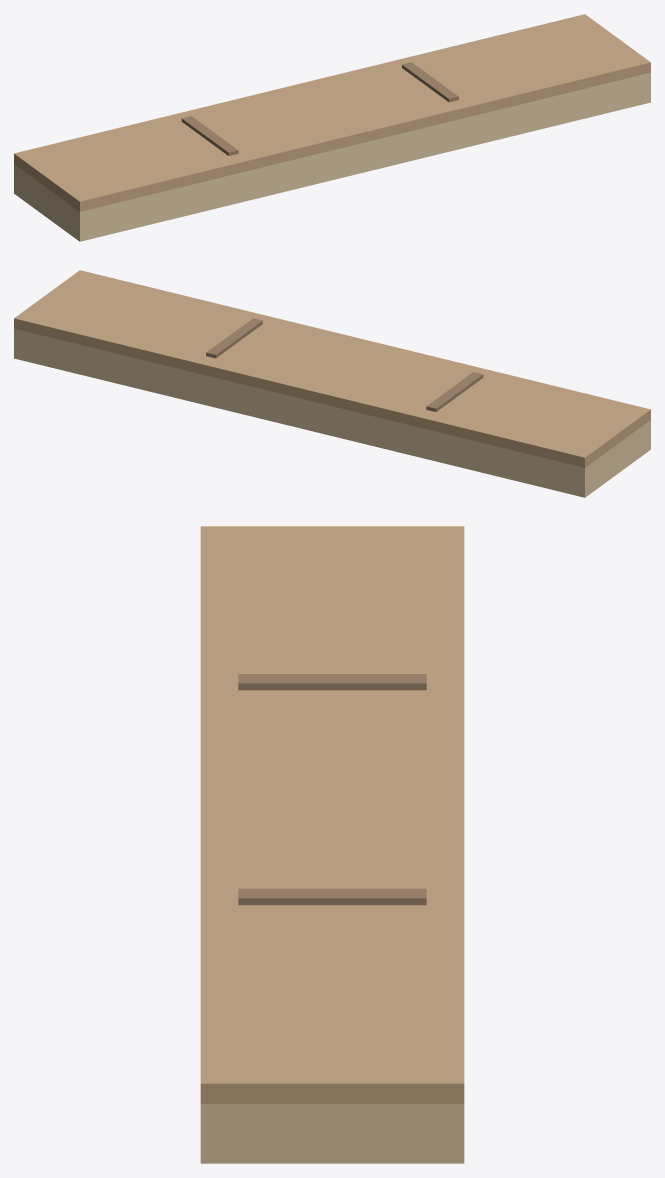
File: item_plank.glb
3 views of the same model, one above another, from view 1: azimuth 30°, elevation 25°; view 2: azimuth 150°, elevation 25°; view 3: azimuth 270°, elevation 25° (orthographic). The views are drawn at different scales.
Visible parts, largest first — view 1: wood, wood_light, wood_dark; view 2: wood, wood_light, wood_dark; view 3: wood, wood_light, wood_dark.
Boxes of the visible parts, <box> form: wood: <box>14,14,650,211</box>; wood_light: <box>14,72,650,241</box>; wood_dark: <box>181,62,458,155</box>; wood: <box>14,270,650,467</box>; wood_light: <box>14,328,650,497</box>; wood_dark: <box>206,318,483,411</box>; wood: <box>200,526,464,1103</box>; wood_light: <box>200,1104,464,1163</box>; wood_dark: <box>238,674,426,905</box>.
Bounding box in the file's own units: 0.7 × 0.051 × 0.14.
